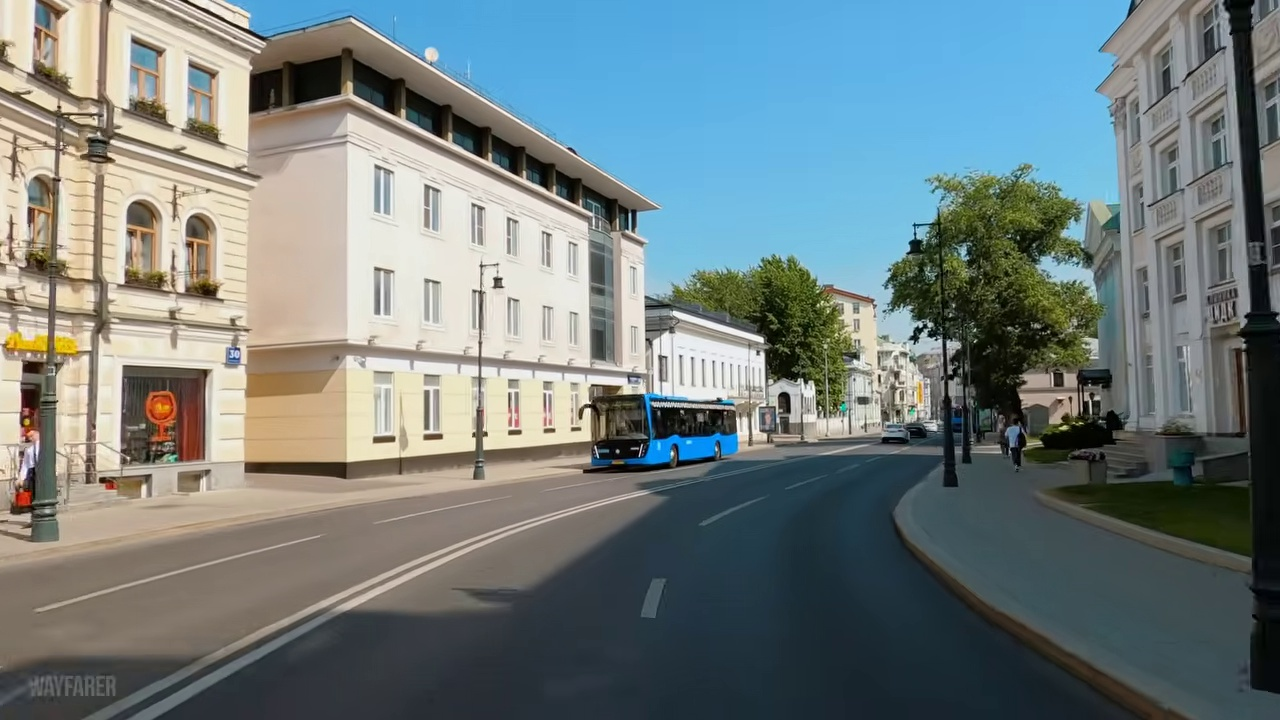apagada: (904, 242, 929, 265)
